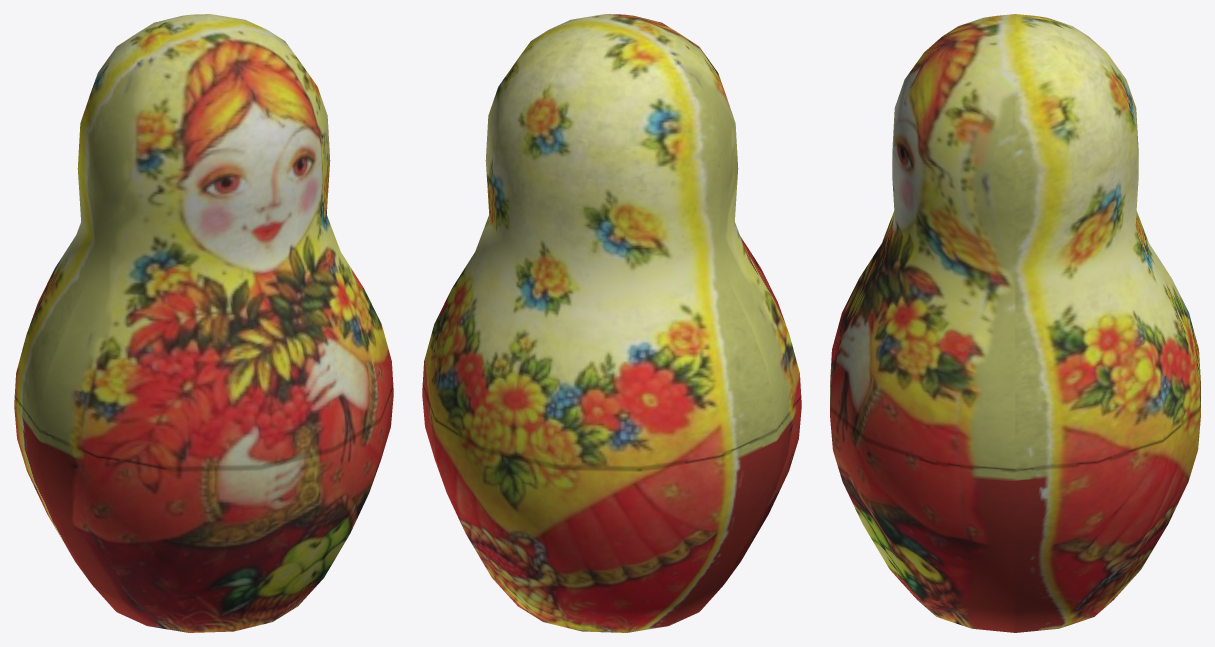
Rendered from SM_Souvenirs01H.FBX.
3 views of the same model, side by side, from view 1: azimuth 30°, elevation 25°; view 2: azimuth 150°, elevation 25°; view 3: azimuth 270°, elevation 25° (orthographic).
Visible parts, largest first — view 1: SM_Souvenirs01H_LOD0; view 2: SM_Souvenirs01H_LOD0; view 3: SM_Souvenirs01H_LOD0.
Boxes of the visible parts, <box> form: SM_Souvenirs01H_LOD0: <box>14,14,393,632</box>; SM_Souvenirs01H_LOD0: <box>422,14,801,632</box>; SM_Souvenirs01H_LOD0: <box>830,14,1200,632</box>.
Size of what is drawn, in the model's own units: 19.24 by 18.75 by 31.47.
